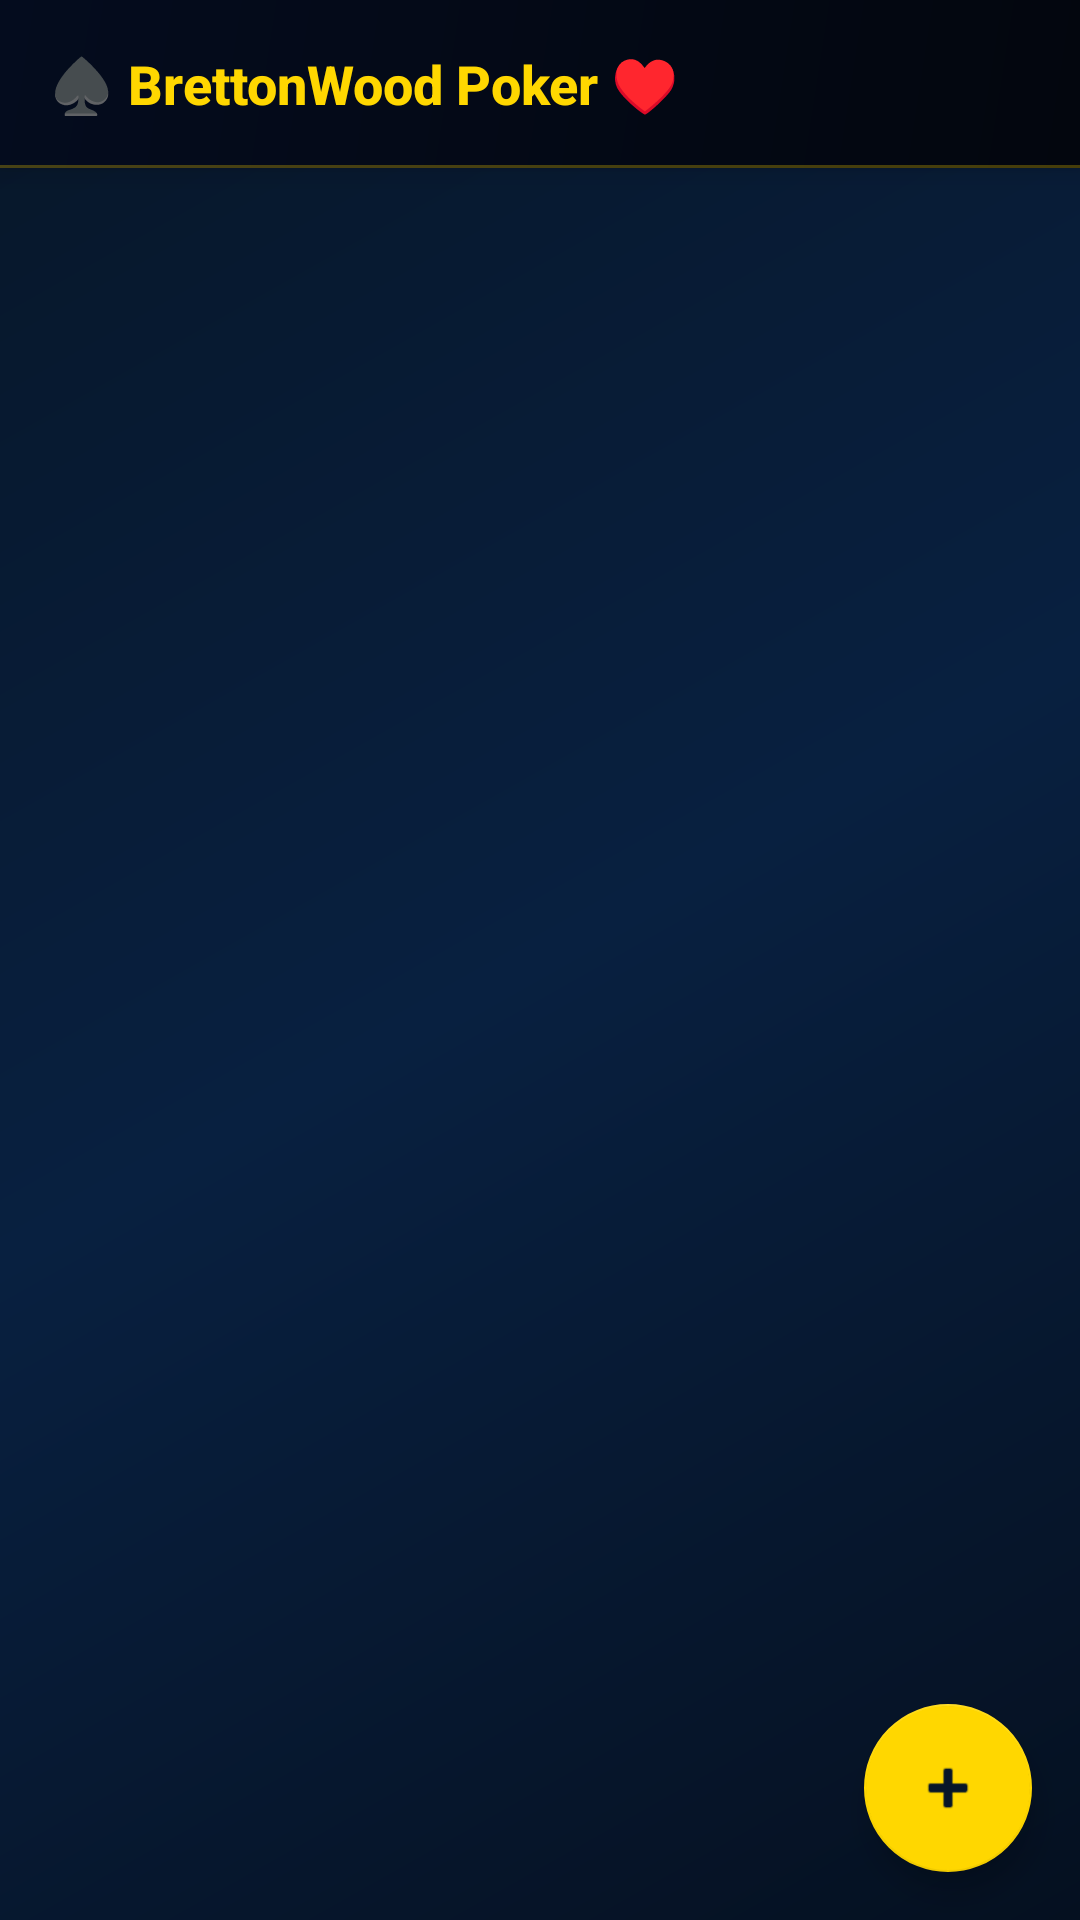

Icons on this 1080px×1920px Android screen, each with the point to tap as (x=x, y=y):
New Session: (x=948, y=1788)
